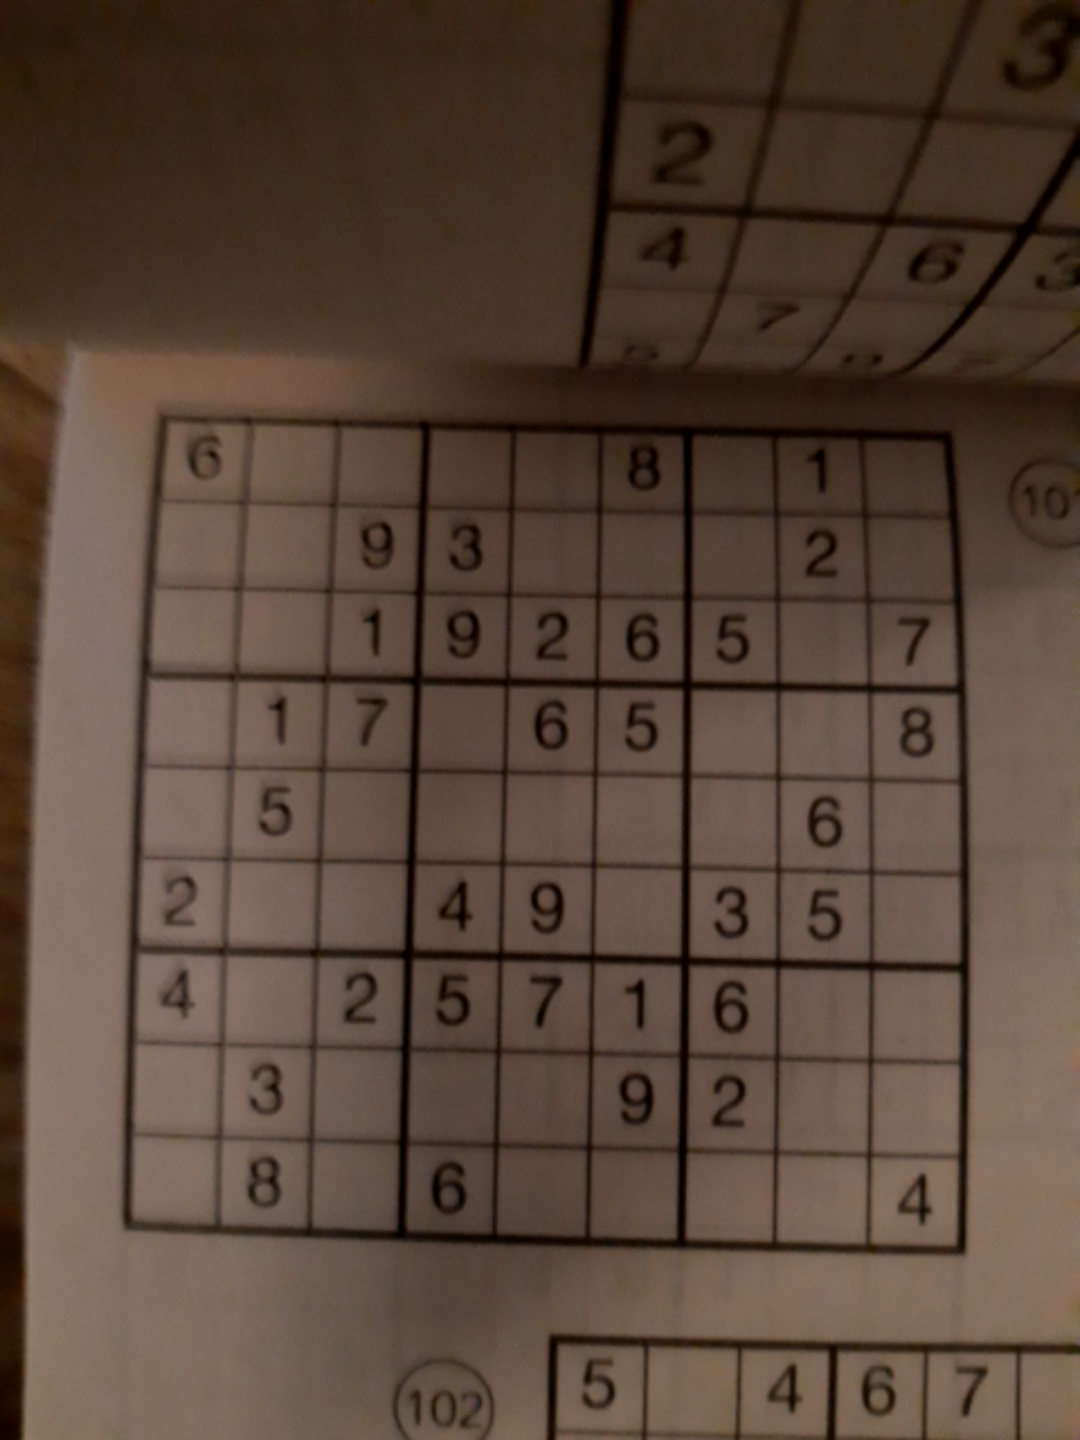sudoku: (112, 404, 979, 1261)
